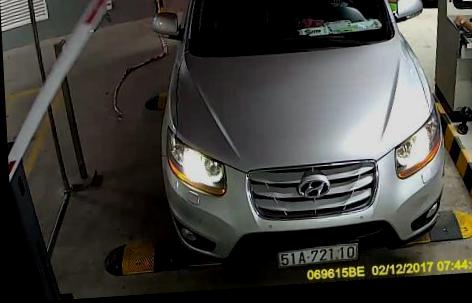License_Plate: (276, 242, 361, 269)
